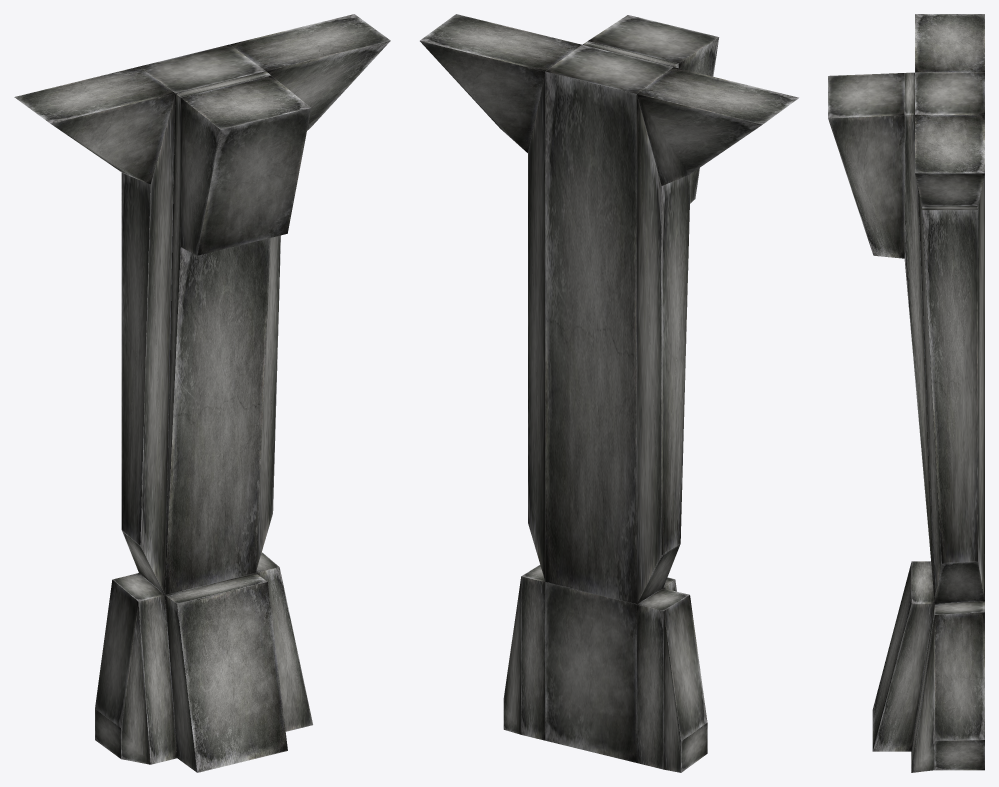
File: R3_Peninsula.obj
3 renders of one model, left to right at view 1: azimuth 30°, elevation 25°; view 2: azimuth 150°, elevation 25°; view 3: azimuth 270°, elevation 25°, orthographic. The views are drawn at different scales.
Visible parts, largest first — view 1: Cube.001; view 2: Cube.001; view 3: Cube.001.
Part boxes in pixels (left/top/right/bottom): Cube.001: left=14, top=14, right=390, bottom=772; Cube.001: left=420, top=14, right=798, bottom=772; Cube.001: left=828, top=14, right=984, bottom=772.
Size of the model in its own units: 3.76 by 7 by 1.56.
Materials: 1 (1 with a texture image).
